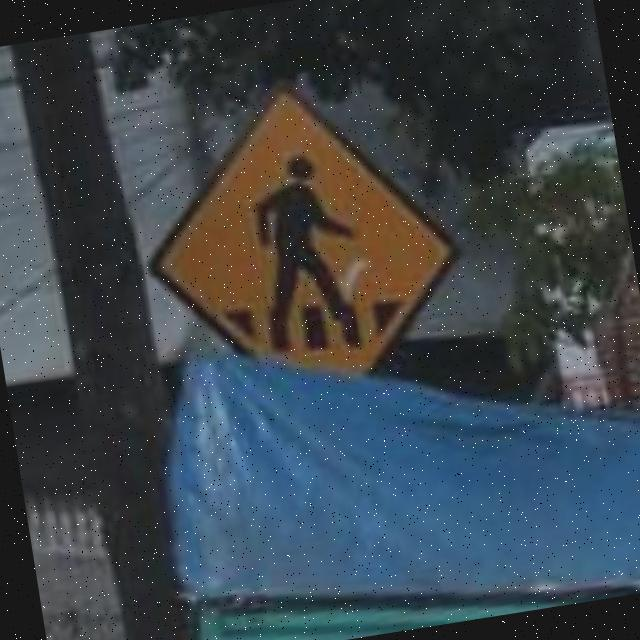Przejscie dla pieszych: (147, 73, 466, 370)
